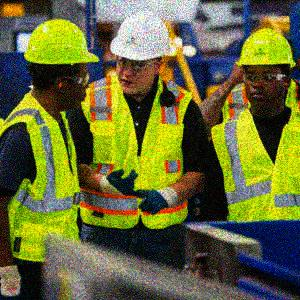helmet: (23, 15, 99, 107), (108, 9, 181, 98), (236, 26, 296, 107)
